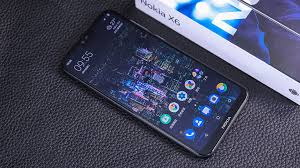nokia: (60, 11, 252, 158)
